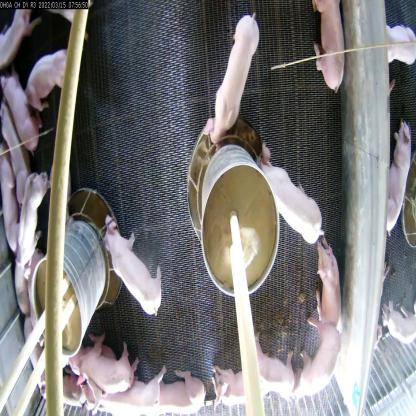Pig: (206, 18, 276, 174), (251, 137, 325, 249), (90, 214, 166, 320), (306, 238, 362, 343), (65, 328, 137, 398), (296, 323, 353, 411), (249, 318, 305, 400), (306, 4, 354, 98), (380, 119, 416, 240), (98, 365, 174, 415), (20, 34, 82, 95), (1, 67, 40, 154), (150, 362, 209, 415), (206, 352, 254, 414), (15, 168, 37, 296), (0, 109, 26, 198)
